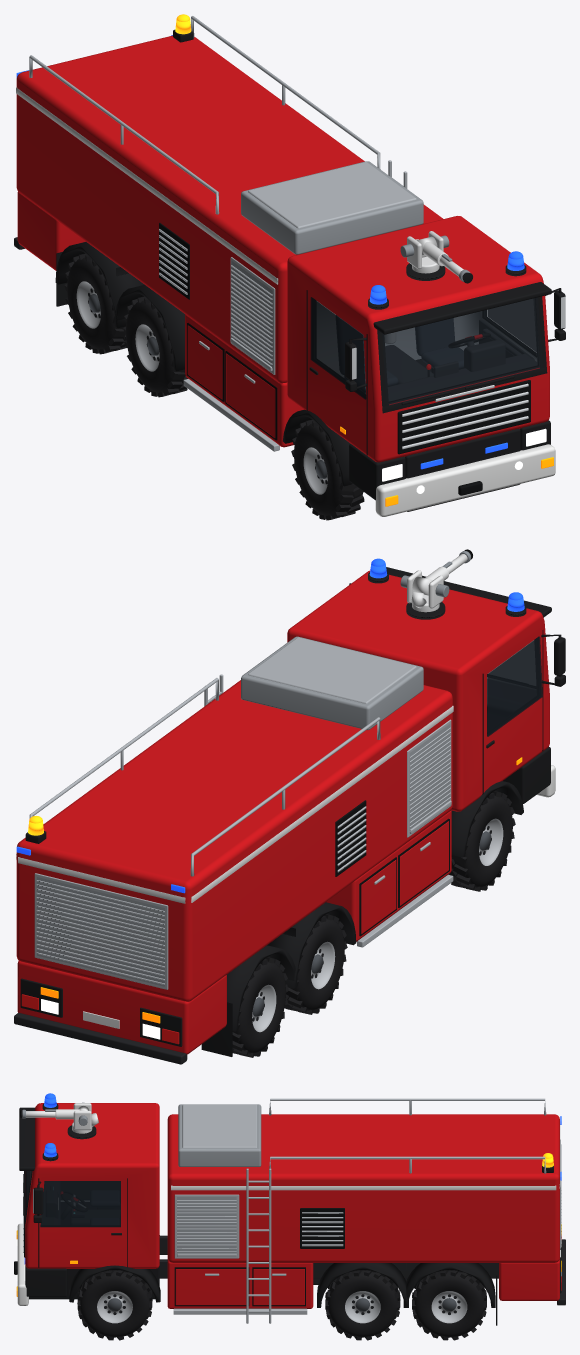
The model's file is fire_truck.glb.
3 renders of one model, top to bottom at view 1: azimuth 30°, elevation 25°; view 2: azimuth 150°, elevation 25°; view 3: azimuth 270°, elevation 25°, orthographic. The views are drawn at different scales.
Visible parts, largest first — view 1: body, wheel_front_right, wheel_middle_right, wheel_rear_right, mirrors, monitor, monitor_barrel; view 2: body, wheel_front_right, wheel_middle_right, wheel_rear_right, monitor, monitor_barrel, mirrors; view 3: body, wheel_front_left, wheel_middle_left, wheel_rear_left, monitor, monitor_barrel, mirrors.
Part boxes in pixels (left/top/right/bottom): body: left=14, top=16, right=555, bottom=516; wheel_front_right: left=291, top=419, right=364, bottom=520; wheel_middle_right: left=123, top=296, right=187, bottom=397; wheel_rear_right: left=64, top=253, right=126, bottom=354; mirrors: left=345, top=288, right=565, bottom=391; monitor: left=400, top=231, right=449, bottom=273; monitor_barrel: left=417, top=236, right=472, bottom=283; body: left=14, top=567, right=555, bottom=1064; wheel_front_right: left=448, top=791, right=515, bottom=891; wheel_middle_right: left=284, top=914, right=347, bottom=1014; wheel_rear_right: left=232, top=957, right=288, bottom=1057; monitor: left=400, top=570, right=449, bottom=612; monitor_barrel: left=412, top=549, right=472, bottom=595; mirrors: left=349, top=583, right=565, bottom=686; body: left=14, top=1098, right=565, bottom=1325; wheel_front_left: left=77, top=1270, right=152, bottom=1340; wheel_middle_left: left=325, top=1270, right=400, bottom=1340; wheel_rear_left: left=412, top=1270, right=486, bottom=1340; monitor: left=72, top=1102, right=98, bottom=1133; monitor_barrel: left=19, top=1106, right=88, bottom=1119; mirrors: left=33, top=1181, right=43, bottom=1222.
Size of the model in its own units: 3.08 by 3.74 by 9.24.
